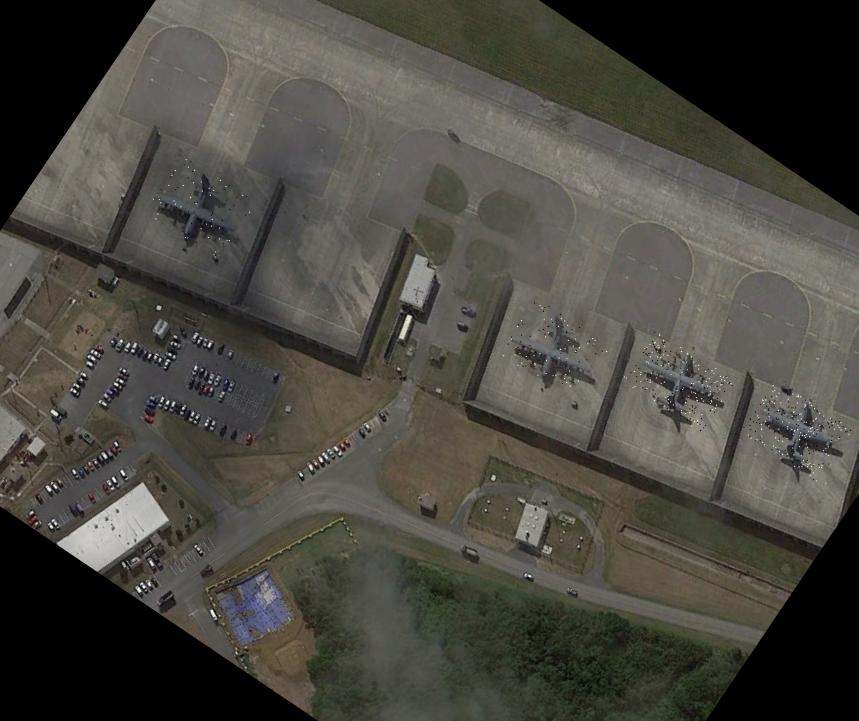A2: (140, 150, 258, 261), (499, 296, 612, 404), (621, 328, 735, 432), (740, 377, 852, 482)
